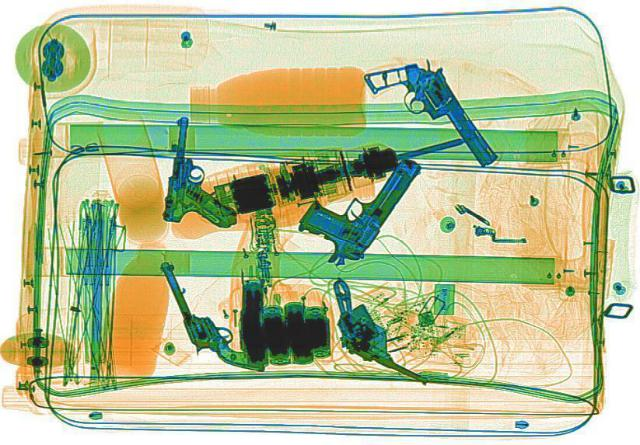Gun: (282, 275, 474, 385), (358, 52, 506, 179), (278, 141, 428, 266), (156, 249, 270, 379), (158, 113, 254, 226)
